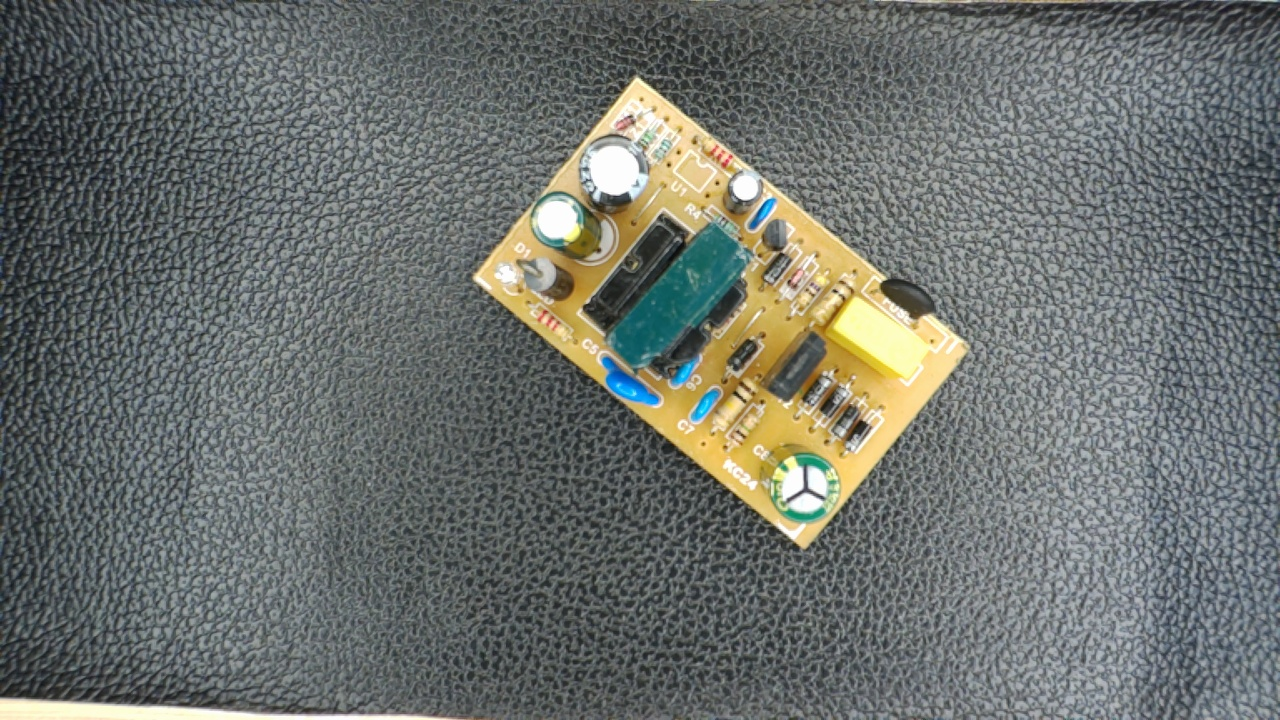fuse: (864, 276, 944, 332)
hv_capacitor: (756, 438, 842, 522)
mov: (593, 351, 666, 410)
